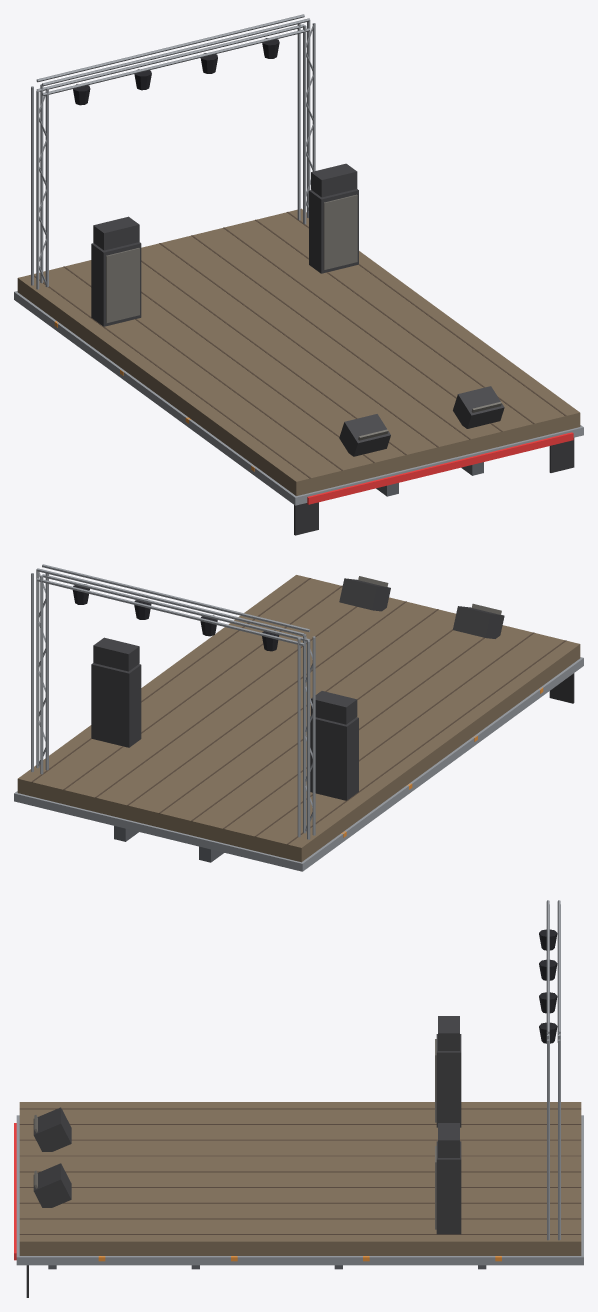
The model's file is Flatbed.obj.
3 views of the same model, one above another, from view 1: azimuth 30°, elevation 25°; view 2: azimuth 150°, elevation 25°; view 3: azimuth 270°, elevation 25° (orthographic).
Visible parts, largest first — view 1: Flatbed; view 2: Flatbed; view 3: Flatbed.
Boxes of the visible parts, <box> form: Flatbed: <box>14,14,583,535</box>; Flatbed: <box>14,564,583,871</box>; Flatbed: <box>14,900,583,1297</box>.
Size of the model in its own units: 6.11 by 5.28 by 10.35.
1 material, 1 textured.
